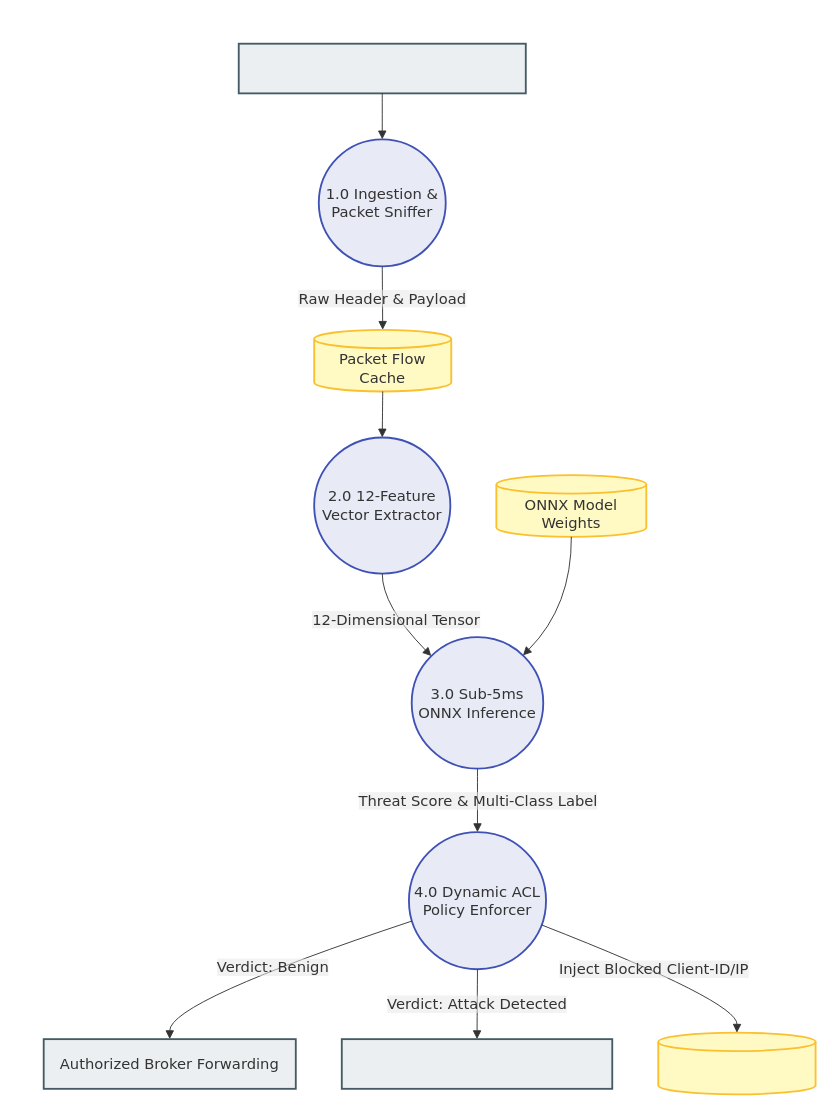
The diagram is 832 pixels wide and 1110 high, and some of its shapes have lost their labels. Each missing label, with the centre of its shape:
Dynamic ACL Blacklist: point 736,1063
Quarantine Action & Admin Alert: point 476,1063
Raw MQTT Ingress Traffic Port 1883: point 381,68
